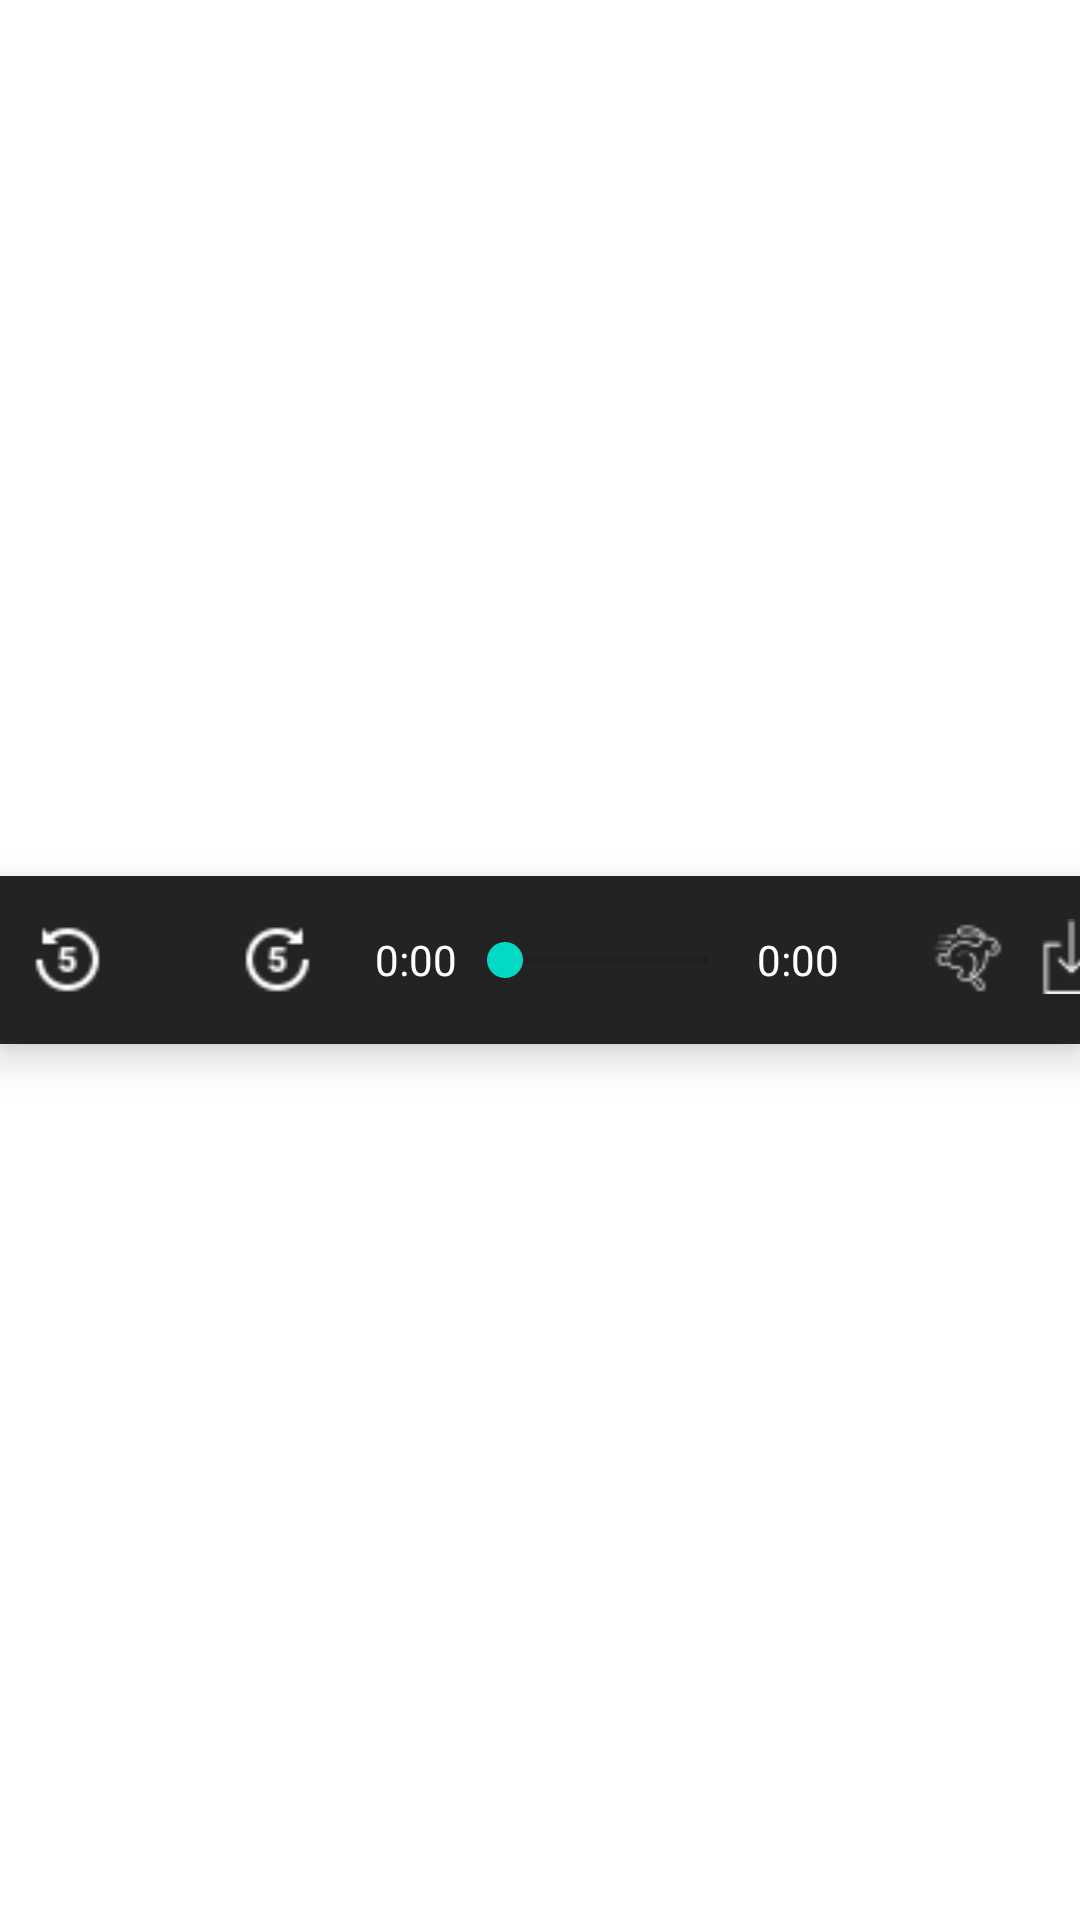

Where to tap for icons on this 1080 x 1920 app screen, as (x,y):
replay: (67,959)
